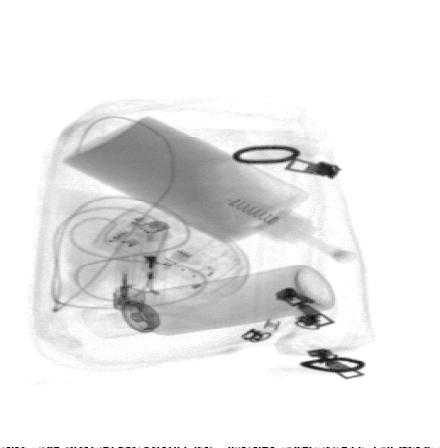Lighter: (97, 217, 227, 289)
Sprayer: (82, 264, 337, 341)
